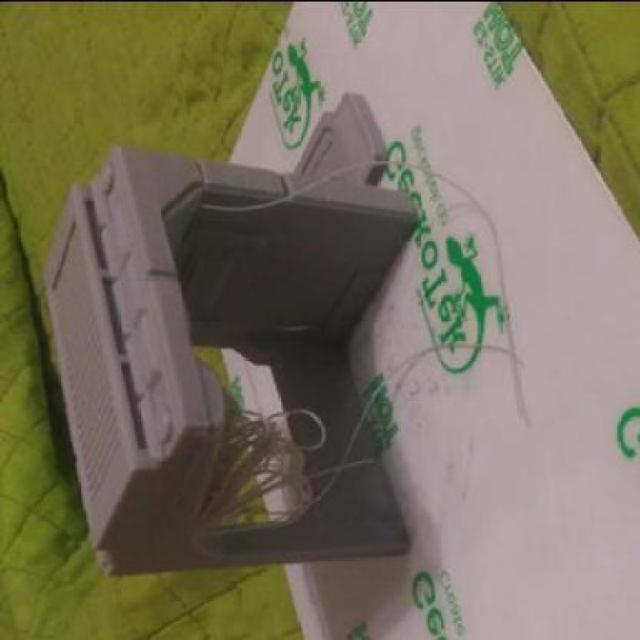Spaghetti: (193, 407, 373, 531), (193, 154, 398, 214)
